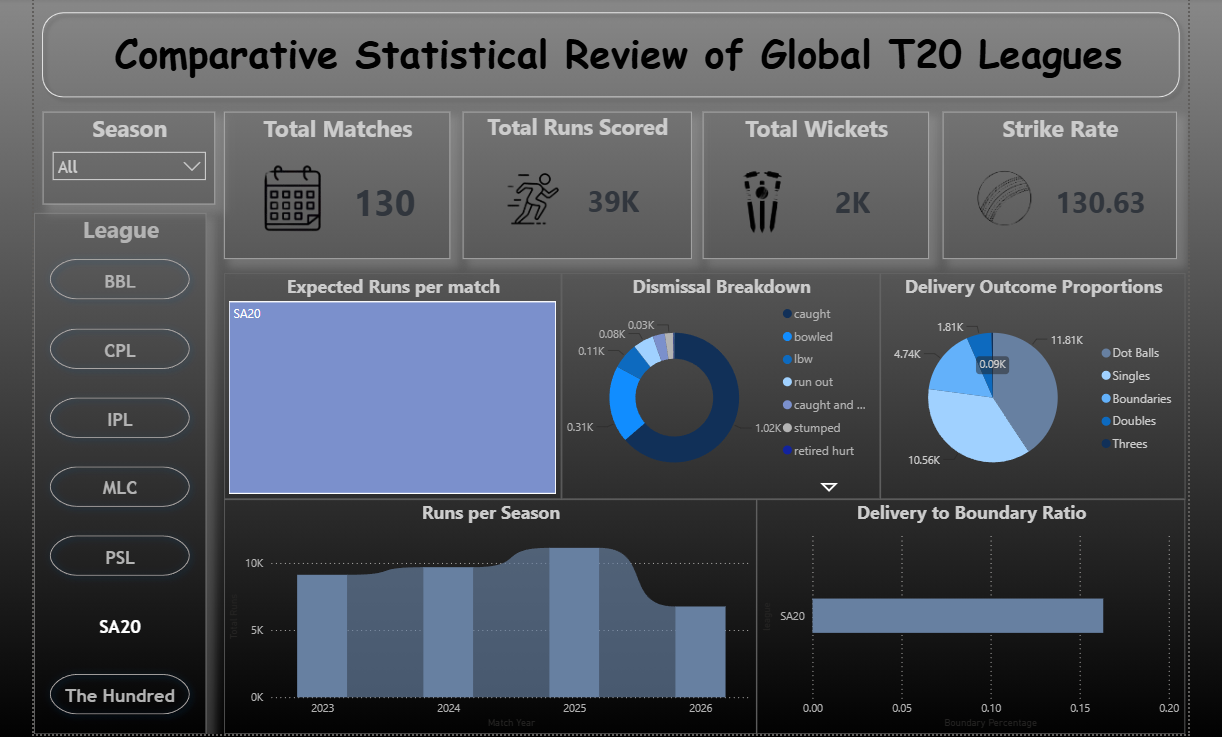

Layout of this report page (visuals, bound fields, positions):
{"tool":"powerbi","page":{"name":"Page 1","canvas":[1285,820],"ordinal":0},"visuals":[{"type":"cardVisual","title":"Total Matches","fields":{"Data":["public matches.Total Matches"]},"box":[211.7,126.7,252.1,164.3],"z":0},{"type":"advancedSlicerVisual","title":"League","fields":{"Values":["public matches.league"]},"box":[9.7,239.5,192.2,580.7],"z":1000},{"type":"cardVisual","title":"Total Wickets","fields":{"Data":["public deliveries.Wickets Taken"]},"box":[745.1,126.7,252.1,164.3],"z":2000},{"type":"slicer","title":"Season","fields":{"Values":["public matches.Match Year"]},"box":[9.7,126.7,192.2,103.1],"z":3000},{"type":"cardVisual","title":"Total Runs Scored","fields":{"Data":["Sum(public deliveries.runs_total)"]},"box":[477.7,126.7,254.9,164.3],"z":4000},{"type":"treemap","title":"Expected Runs per match","fields":{"Group":["public matches.league"],"Values":["public deliveries.Average Runs per match"]},"box":[211.7,306.4,376,252.1],"z":5000},{"type":"ribbonChart","title":"Runs per Season","fields":{"Category":["public matches.Match Year"],"Y":["public deliveries.Total Runs"]},"box":[211.7,558.5,593.3,261.8],"z":6000},{"type":"donutChart","title":"Dismissal Breakdown","fields":{"Y":["CountNonNull(public deliveries.dismissal_kind)"],"Category":["public deliveries.dismissal_kind"]},"box":[587.7,306.4,355.1,252.1],"z":7000},{"type":"pieChart","title":"Delivery Outcome Proportions","fields":{"Category":["public deliveries.Run_category"],"Y":["CountNonNull(public deliveries.Run_category)"]},"box":[942.8,306.4,339.8,252.1],"z":8000},{"type":"clusteredBarChart","title":"Delivery to Boundary Ratio","fields":{"Y":["public matches.Boundary Percentage"],"Category":["public matches.league"]},"box":[805,558.5,477.7,261.8],"z":9000},{"type":"shape","box":[0,7,1285.4,112.8],"z":10000},{"type":"textbox","box":[20.9,26.5,1242.3,85],"z":11000},{"type":"cardVisual","title":"Strike Rate","fields":{"Data":["public deliveries.Strike Rate"]},"box":[1012.5,126.7,260.4,164.3],"z":12000}]}

Visuals, with their boxes on the page's 1285x820 design canvas (x1, y1, x2, y2). These are canvas units, not pixel positions in the 1222x737 screenshot, which may show the page scaled, cropped or inside an application window:
"Total Matches" cardVisual: 212/127/464/291
"League" advancedSlicerVisual: 10/240/202/820
"Total Wickets" cardVisual: 745/127/997/291
"Season" slicer: 10/127/202/230
"Total Runs Scored" cardVisual: 478/127/733/291
"Expected Runs per match" treemap: 212/306/588/558
"Runs per Season" ribbonChart: 212/558/805/820
"Dismissal Breakdown" donutChart: 588/306/943/558
"Delivery Outcome Proportions" pieChart: 943/306/1283/558
"Delivery to Boundary Ratio" clusteredBarChart: 805/558/1283/820
shape: 0/7/1285/120
textbox: 21/26/1263/112
"Strike Rate" cardVisual: 1012/127/1273/291
